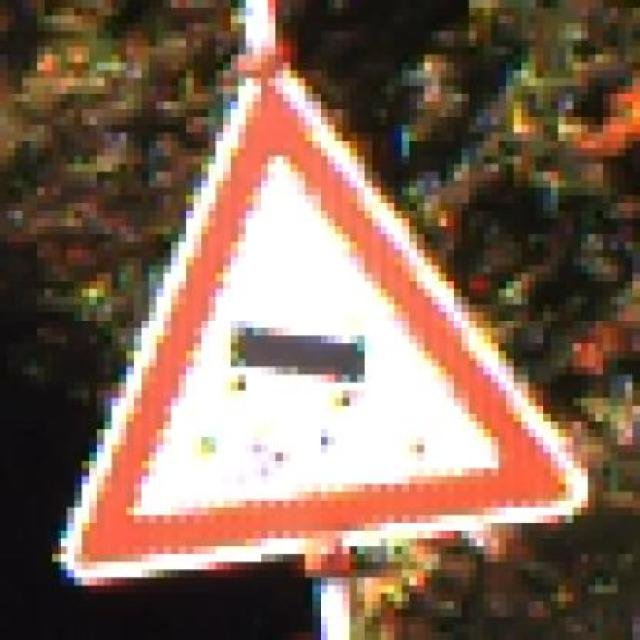Slippery Road Ahead: (49, 72, 592, 588)
